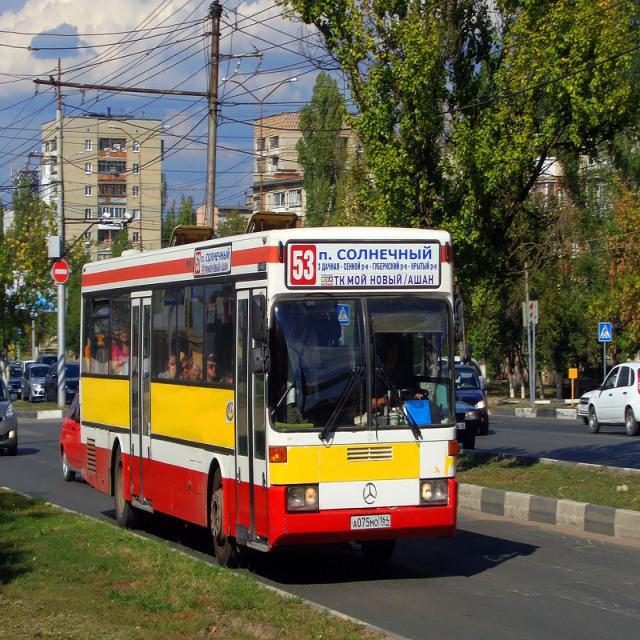number-of-bus: (292, 246, 317, 284), (196, 253, 202, 274)
